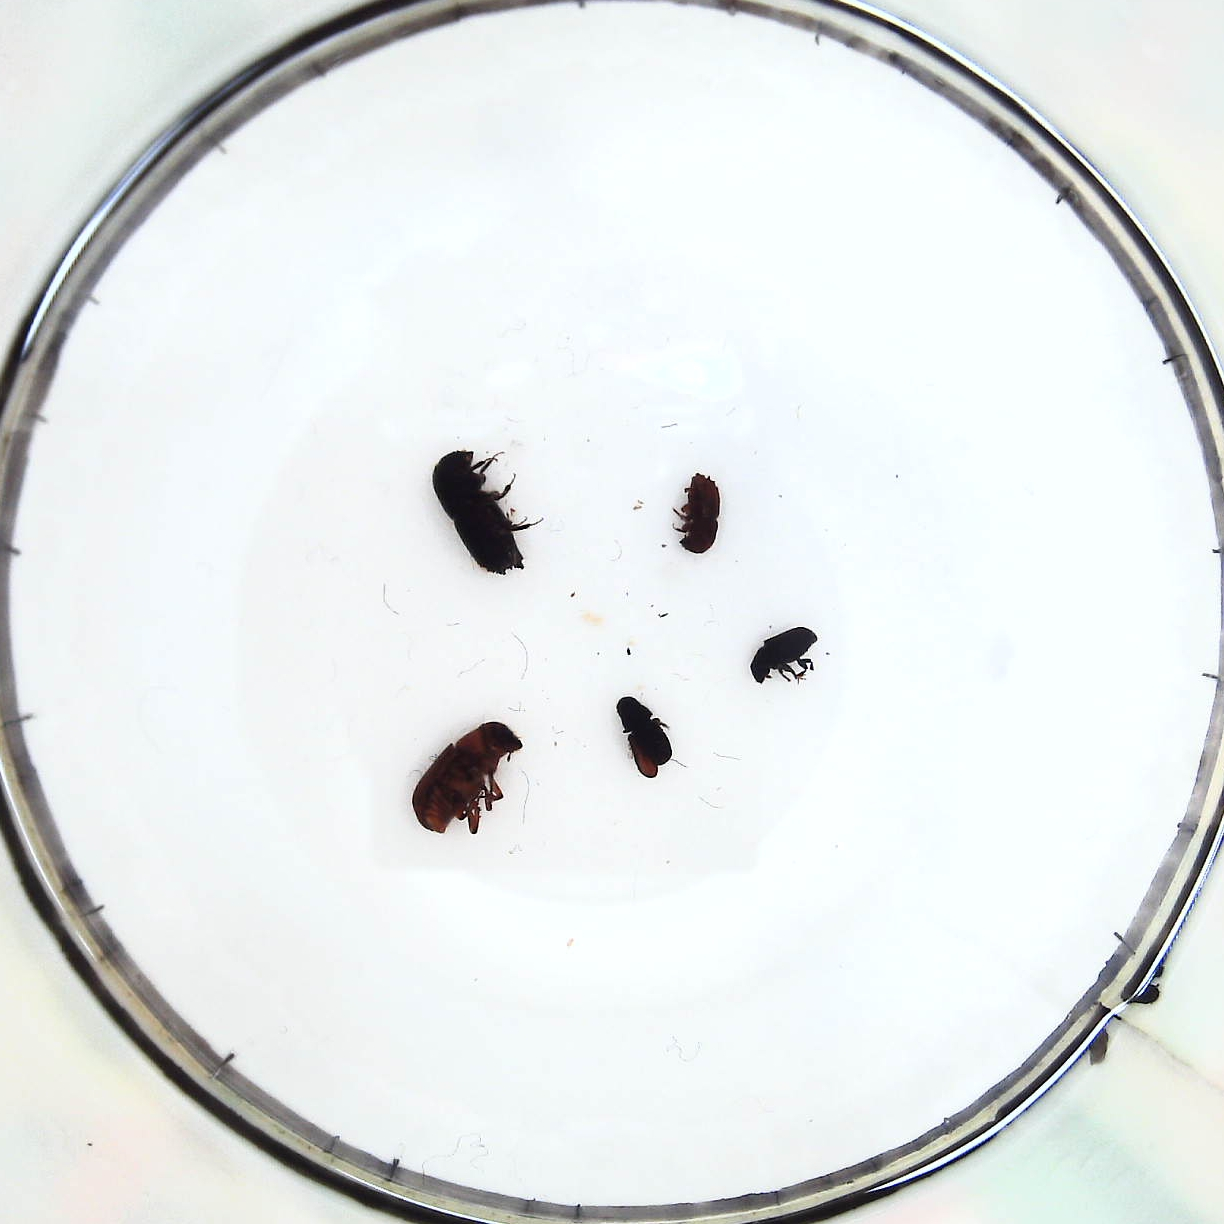Boerner: (430, 447, 530, 575)
Leconte: (412, 722, 523, 836)
Linnaeus: (678, 475, 724, 556)
armandi: (614, 695, 678, 778)
coleoptera: (745, 625, 823, 683)
